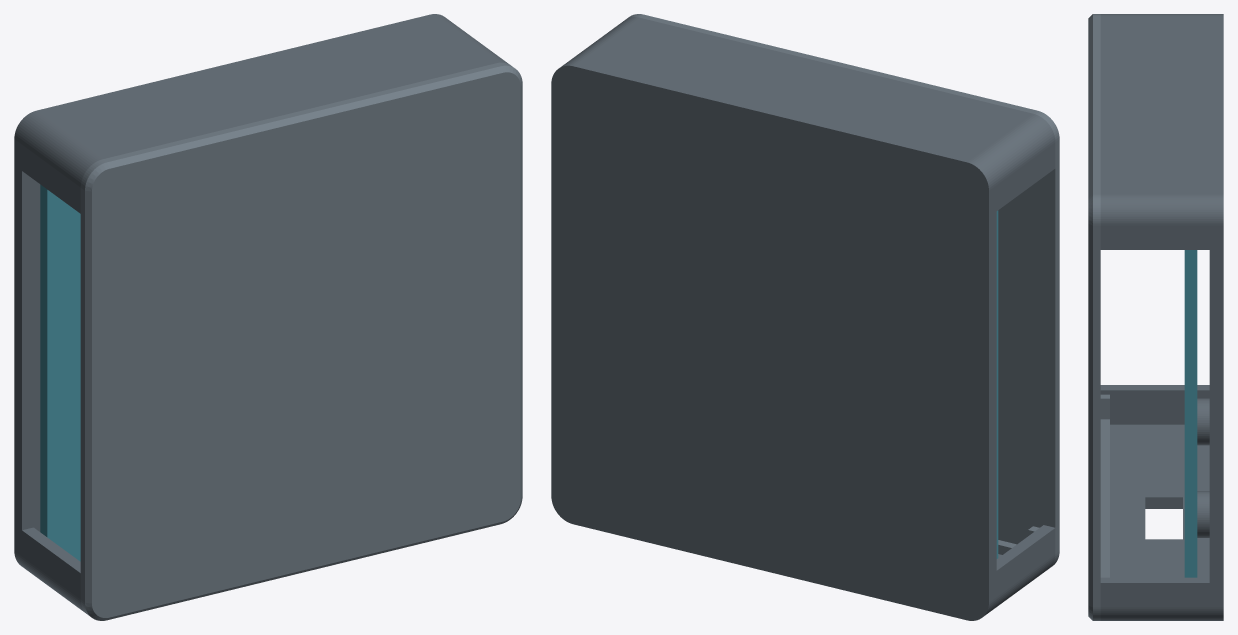
File: rp2040_assembly.glb
3 renders of one model, left to right at view 1: azimuth 30°, elevation 25°; view 2: azimuth 150°, elevation 25°; view 3: azimuth 270°, elevation 25°, orthographic. The views are drawn at different scales.
Visible parts, largest first — view 1: lid, bottom, board_proxy; view 2: bottom, lid, board_proxy; view 3: bottom, lid, board_proxy.
Part boxes in pixels (x1,y1,x2,y2): lid: [80, 62, 522, 620]; bottom: [14, 14, 509, 613]; board_proxy: [40, 184, 80, 561]; bottom: [551, 17, 1055, 620]; lid: [627, 14, 1059, 567]; board_proxy: [996, 210, 998, 558]; bottom: [1100, 14, 1223, 620]; lid: [1088, 14, 1109, 620]; board_proxy: [1184, 250, 1197, 577].
Size of the model in its own units: 59.74 by 59.74 by 17.3.
